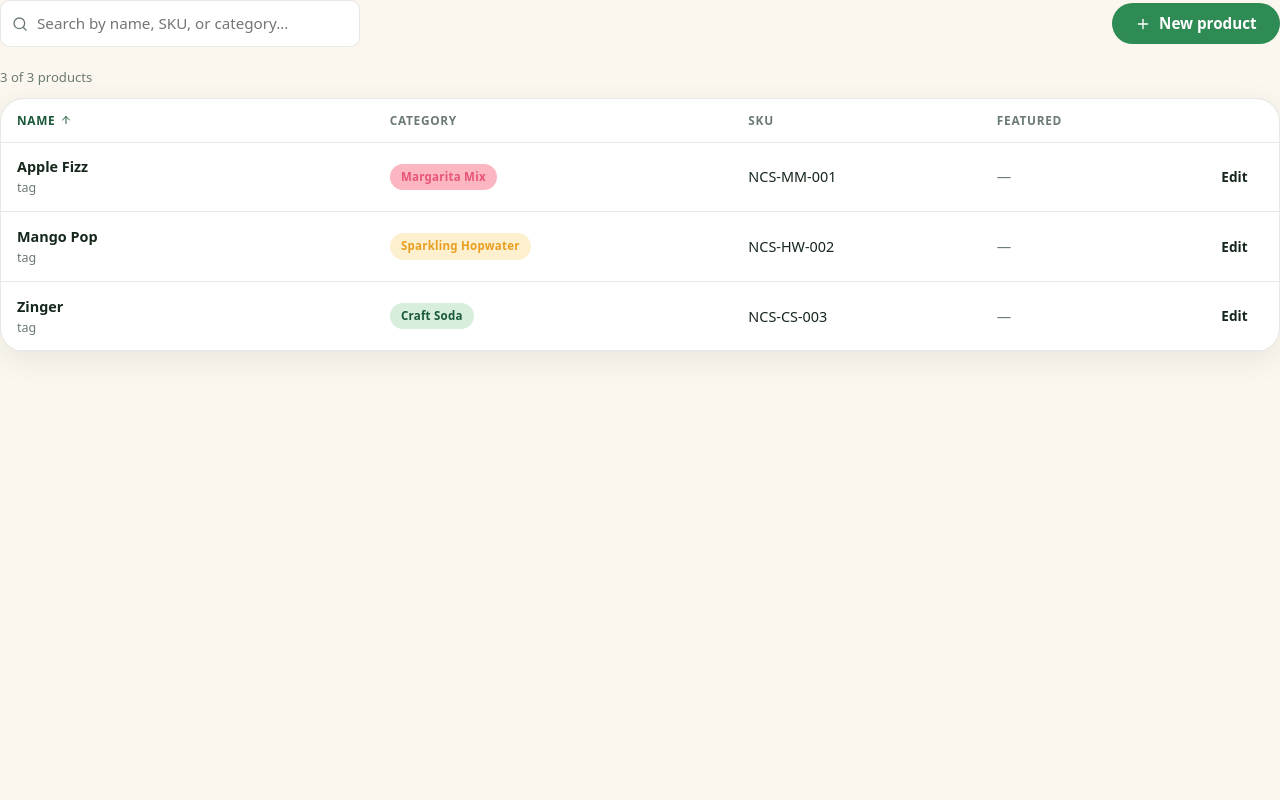
Scenario: ManageProducts › reveals the new-product form when the button is clicked
Expected: the button "save product" is not shown
Click the button "New product": (1196, 24) [1112,3,1279,44]
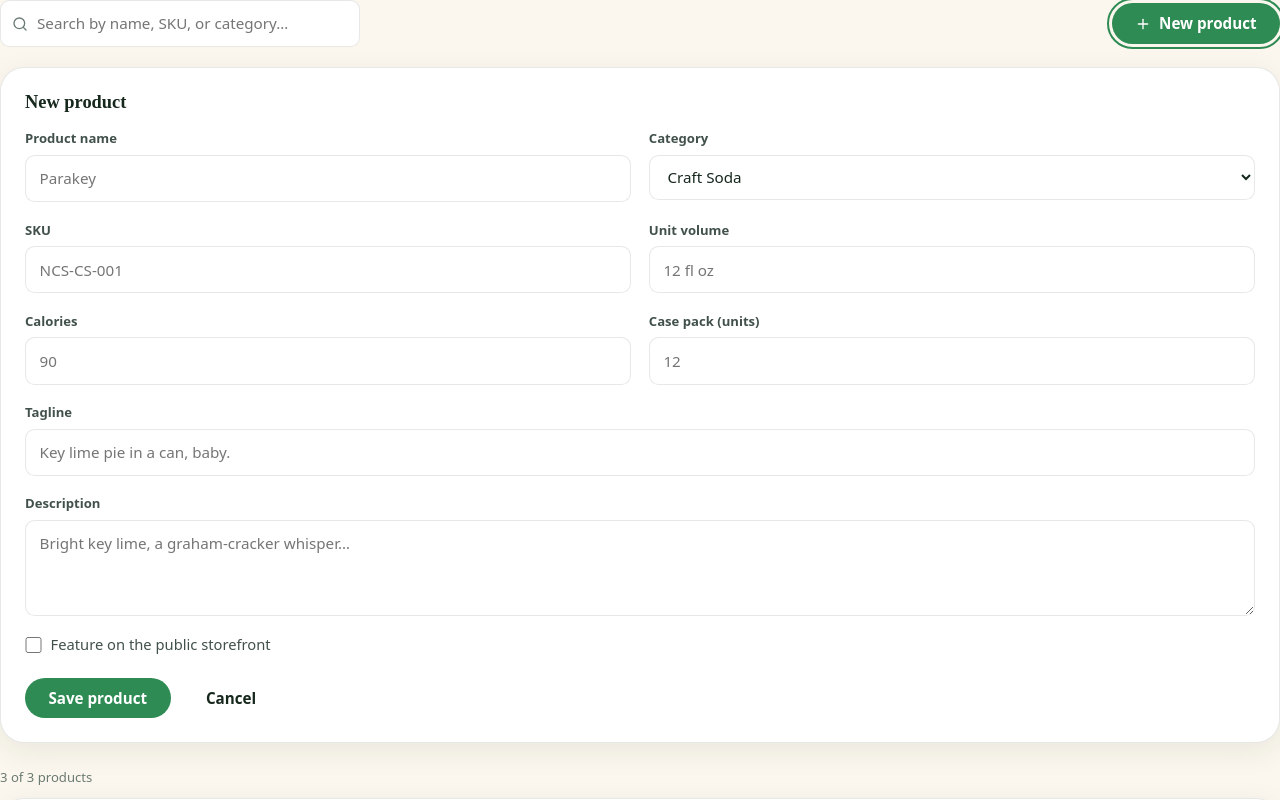
Now the button "Save product" is shown, box [25,678,170,718]
